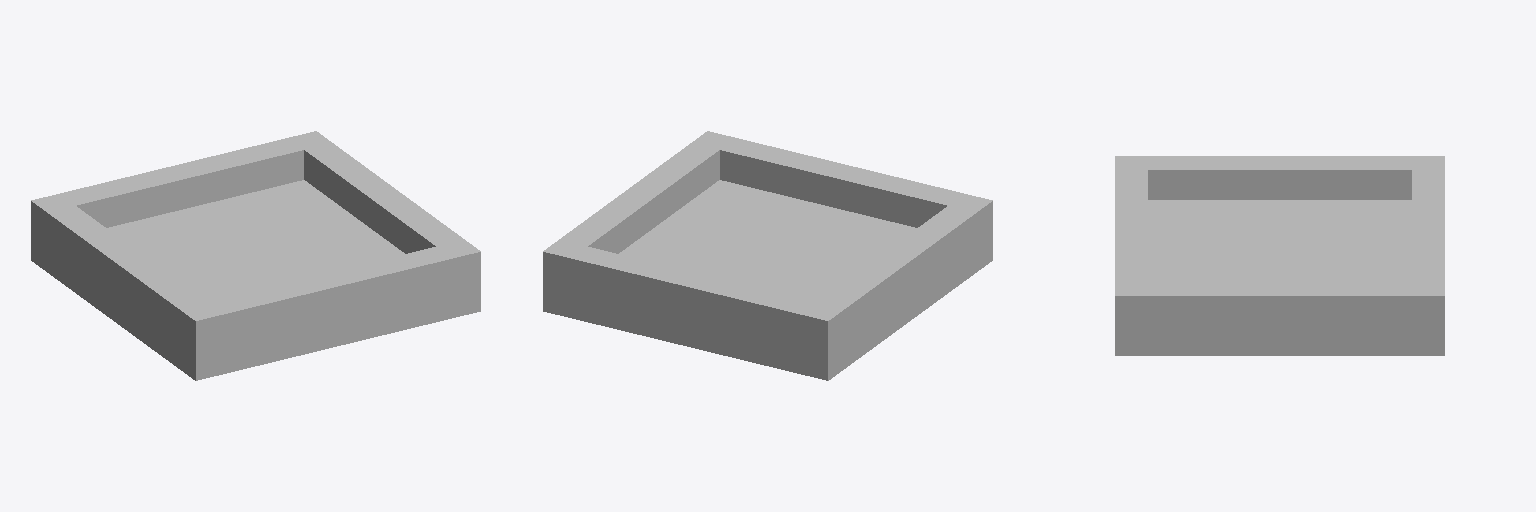
The model's file is table.obj.
The picture shows the model from 3 angles: view 1: azimuth 30°, elevation 25°; view 2: azimuth 150°, elevation 25°; view 3: azimuth 270°, elevation 25°; orthographic projection.
Visible parts, largest first — view 1: Cube.001; view 2: Cube.001; view 3: Cube.001.
Boxes of the visible parts, <box> form: Cube.001: <box>31,131,480,380</box>; Cube.001: <box>543,131,992,380</box>; Cube.001: <box>1115,156,1444,355</box>.
Bounding box in the file's own units: 10 × 2 × 10.